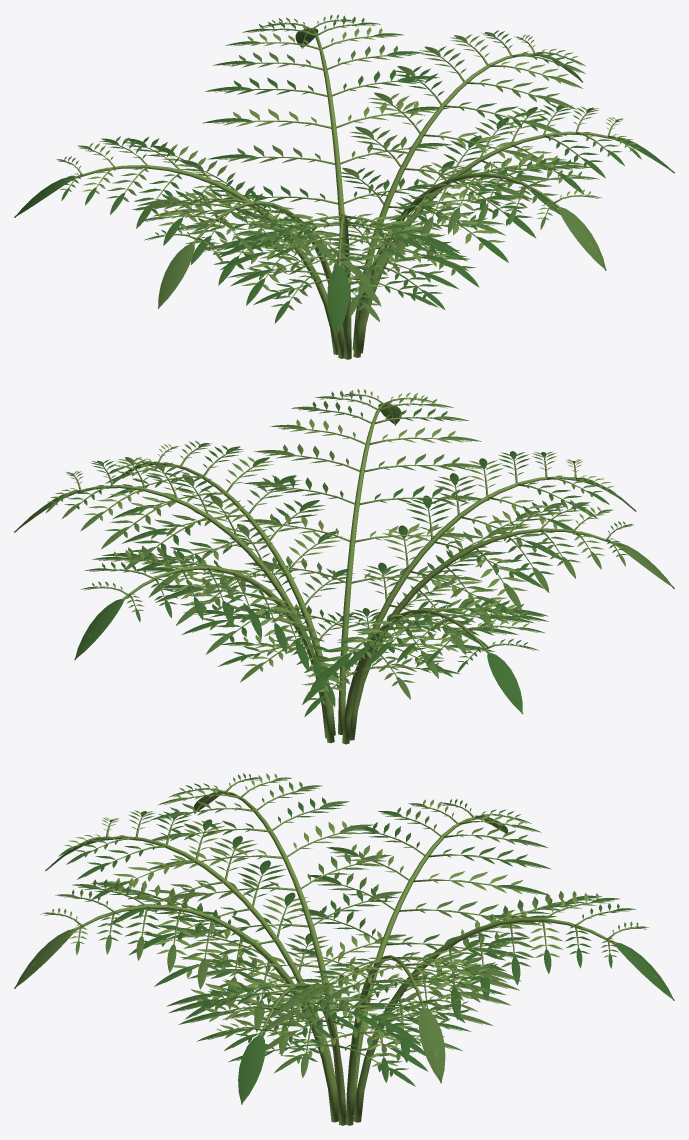
File: meadow_fern_rosette.hi.glb
3 renders of one model, top to bottom at view 1: azimuth 30°, elevation 25°; view 2: azimuth 150°, elevation 25°; view 3: azimuth 270°, elevation 25°, orthographic. The views are drawn at different scales.
Visible parts, largest first — view 1: body; view 2: body; view 3: body.
Part boxes in pixels (x1=…): body: x1=14, y1=14, x2=674, y2=359; body: x1=14, y1=389, x2=674, y2=744; body: x1=14, y1=773, x2=674, y2=1125.
Size of the model in its own units: 0.6733 by 0.279 by 0.6719.
